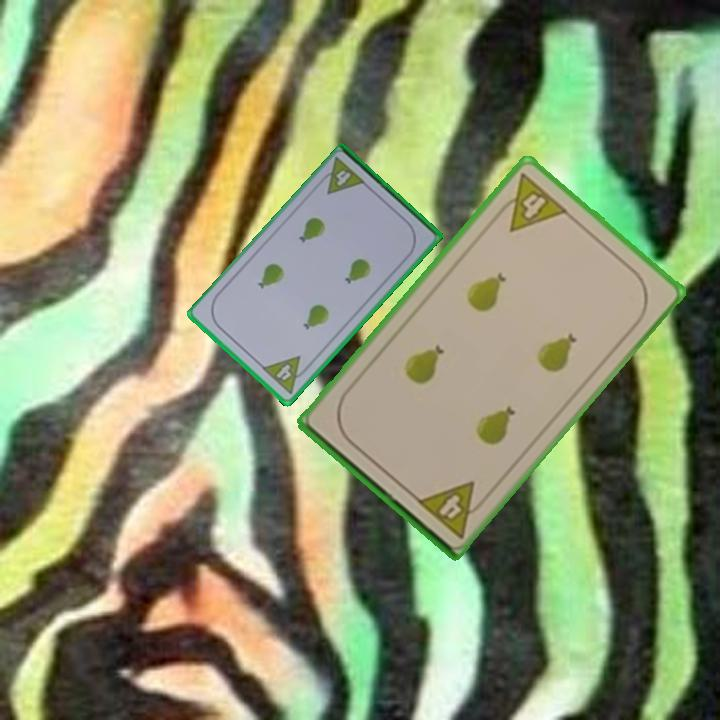4p: (490, 169, 571, 235), (413, 477, 491, 542), (258, 352, 313, 397), (314, 154, 369, 197)
